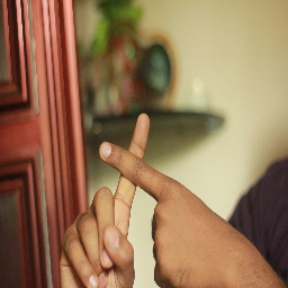X: (74, 108, 197, 242)
